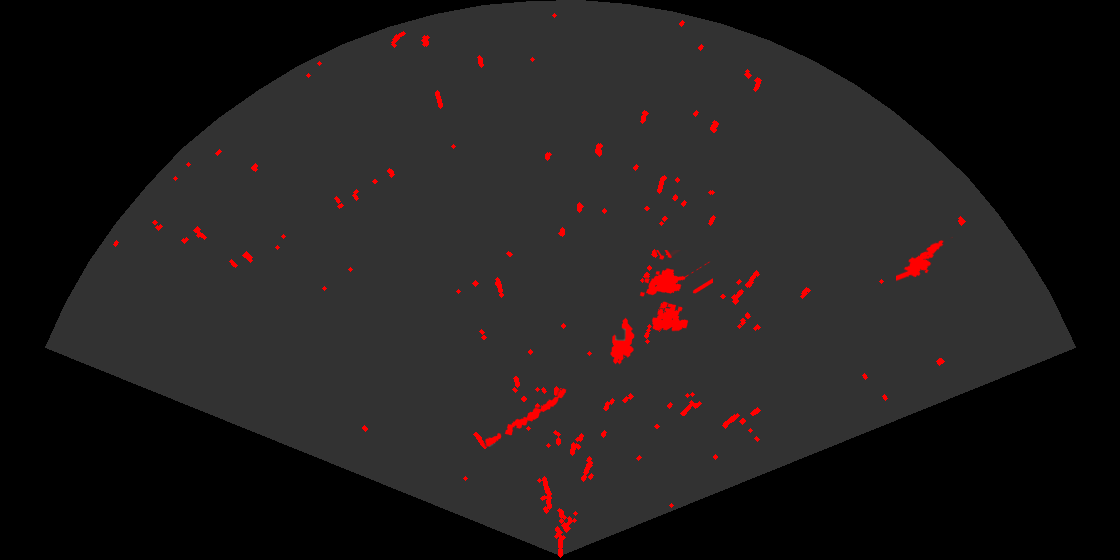AUV: (609, 316, 636, 366)
cage: (638, 250, 713, 333)
chain: (483, 387, 568, 448)
frogman: (896, 236, 953, 283)
